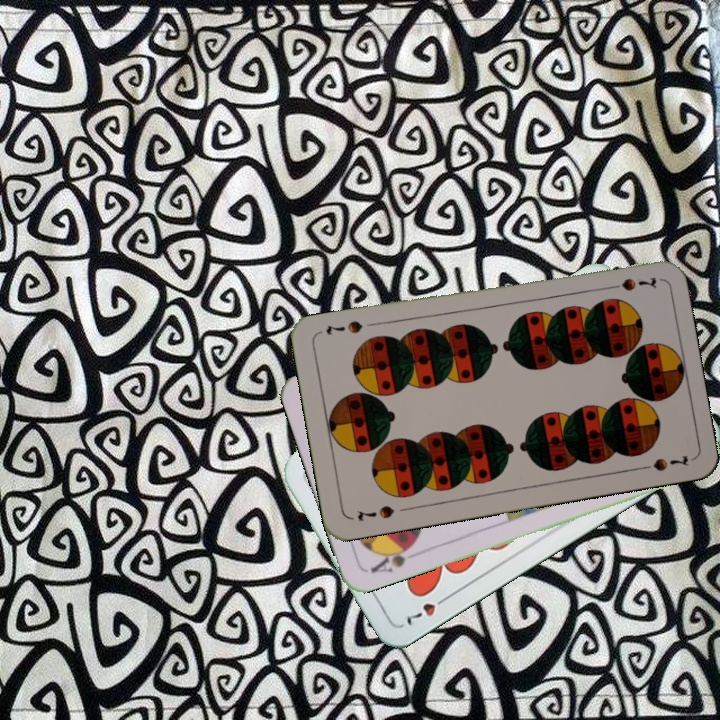H7: (402, 590, 453, 629)
S7: (602, 273, 659, 294), (353, 501, 397, 524)
SA: (366, 539, 418, 576)
